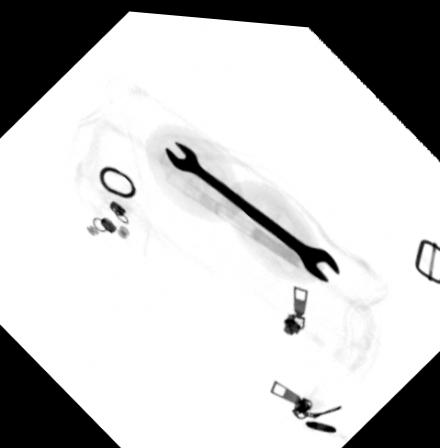Wrench: (163, 136, 342, 277)
